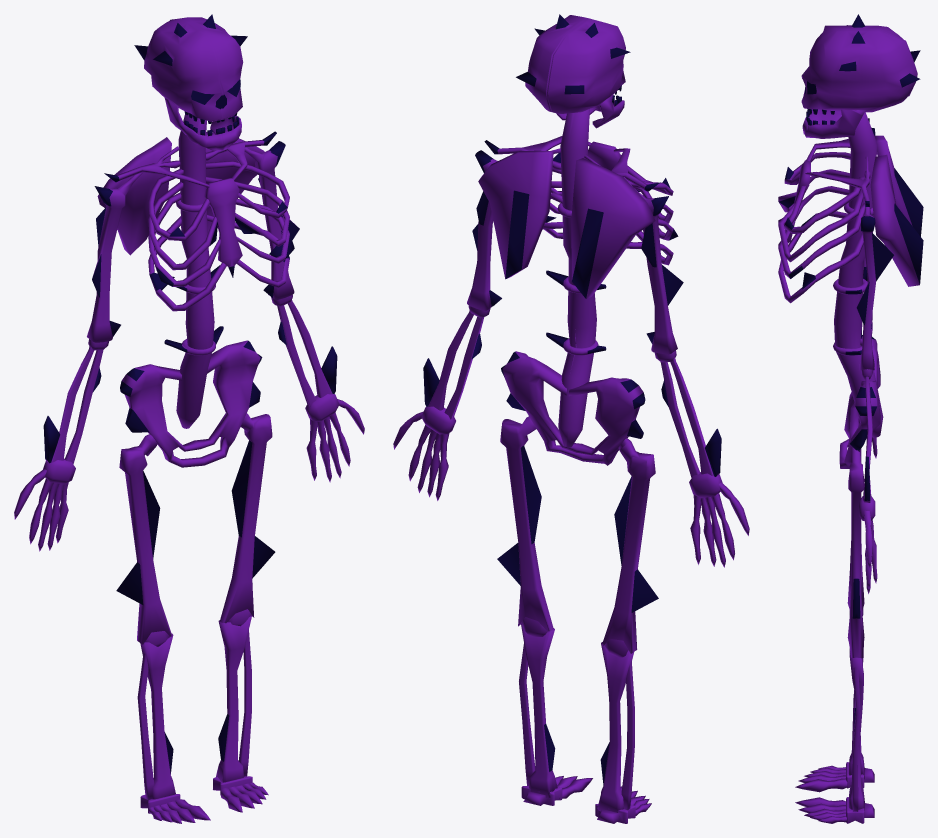
Rendered from SkeletonSpkie.fbx.
3 renders of one model, left to right at view 1: azimuth 30°, elevation 25°; view 2: azimuth 150°, elevation 25°; view 3: azimuth 270°, elevation 25°, orthographic.
Parts seen in each view (by area): view 1: SkeletonSpike; view 2: SkeletonSpike; view 3: SkeletonSpike.
Boxes of the visible parts, x1=… form: SkeletonSpike: x1=14, y1=14, x2=364, y2=823; SkeletonSpike: x1=393, y1=14, x2=749, y2=823; SkeletonSpike: x1=778, y1=14, x2=923, y2=823.
Size of the model in its own units: 166 by 355 by 59.99.
